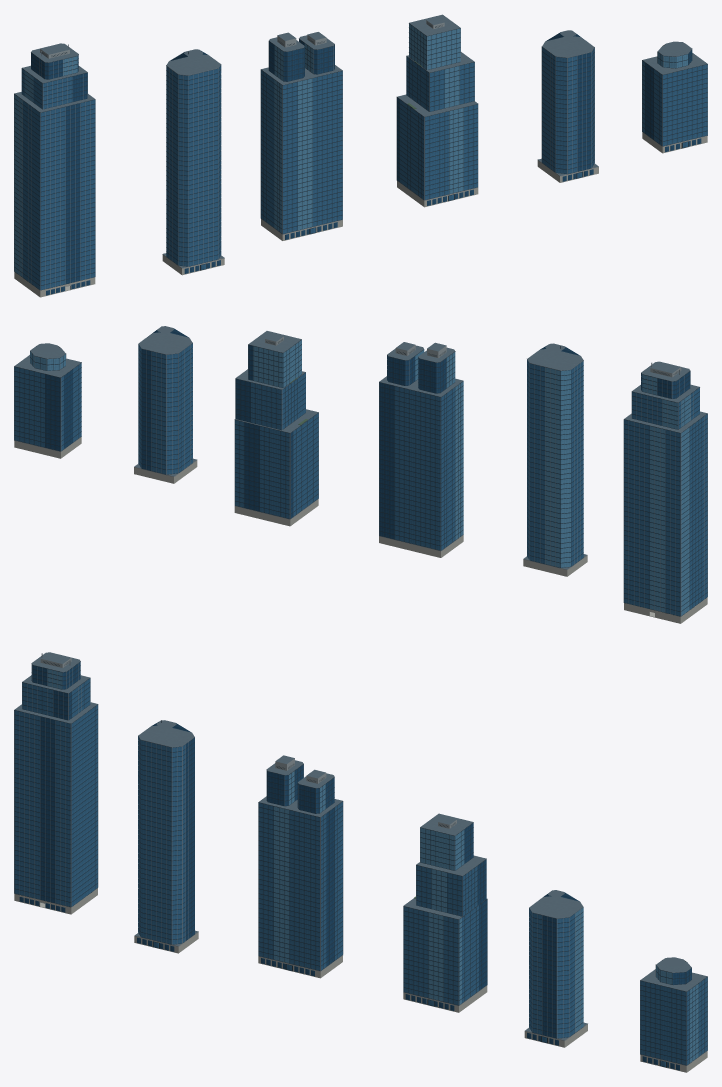
The picture shows the model from 3 angles, top to bottom: view 1: azimuth 30°, elevation 25°; view 2: azimuth 150°, elevation 25°; view 3: azimuth 330°, elevation 25°; orthographic projection. The views are drawn at different scales.
Parts seen in each view (by area): view 1: VIS_01_Stepped_Crown_01_Stepped_Crown_Glass_Blue, VIS_02_Faceted_Blade_02_Faceted_Blade_Glass_Blue, VIS_03_Twin_Pinnacles_03_Twin_Pinnacles_Glass_Blue, VIS_04_Terraced_Setbacks_04_Terraced_Setbacks_Glass_Blue, VIS_03_Twin_Pinnacles_03_Twin_Pinnacles_Frame_Dark, VIS_05_Chamfered_Apex_05_Chamfered_Apex_Glass_Blue, VIS_06_Civic_Lantern_06_Civic_Lantern_Glass_Blue, VIS_03_Twin_Pinnacles_03_Twin_Pinnacles_Glass_Sky, VIS_01_Stepped_Crown_01_Stepped_Crown_Glass_Deep, VIS_04_Terraced_Setbacks_04_Terraced_Setbacks_Frame_Dark, VIS_04_Terraced_Setbacks_04_Terraced_Setbacks_Glass_Sky, VIS_01_Stepped_Crown_01_Stepped_Crown_Frame_Dark (+25 smaller); view 2: VIS_01_Stepped_Crown_01_Stepped_Crown_Glass_Blue, VIS_03_Twin_Pinnacles_03_Twin_Pinnacles_Glass_Blue, VIS_04_Terraced_Setbacks_04_Terraced_Setbacks_Glass_Blue, VIS_02_Faceted_Blade_02_Faceted_Blade_Glass_Blue, VIS_05_Chamfered_Apex_05_Chamfered_Apex_Glass_Blue, VIS_01_Stepped_Crown_01_Stepped_Crown_Glass_Sky, VIS_03_Twin_Pinnacles_03_Twin_Pinnacles_Frame_Dark, VIS_02_Faceted_Blade_02_Faceted_Blade_Glass_Sky, VIS_04_Terraced_Setbacks_04_Terraced_Setbacks_Frame_Dark, VIS_03_Twin_Pinnacles_03_Twin_Pinnacles_Glass_Deep, VIS_01_Stepped_Crown_01_Stepped_Crown_Spandrel_Steel, VIS_01_Stepped_Crown_01_Stepped_Crown_Frame_Dark (+31 smaller); view 3: VIS_01_Stepped_Crown_01_Stepped_Crown_Glass_Blue, VIS_02_Faceted_Blade_02_Faceted_Blade_Glass_Blue, VIS_03_Twin_Pinnacles_03_Twin_Pinnacles_Glass_Blue, VIS_04_Terraced_Setbacks_04_Terraced_Setbacks_Glass_Blue, VIS_03_Twin_Pinnacles_03_Twin_Pinnacles_Frame_Dark, VIS_06_Civic_Lantern_06_Civic_Lantern_Glass_Blue, VIS_01_Stepped_Crown_01_Stepped_Crown_Glass_Deep, VIS_04_Terraced_Setbacks_04_Terraced_Setbacks_Frame_Dark, VIS_04_Terraced_Setbacks_04_Terraced_Setbacks_Glass_Sky, VIS_05_Chamfered_Apex_05_Chamfered_Apex_Glass_Blue, VIS_01_Stepped_Crown_01_Stepped_Crown_Frame_Dark, VIS_03_Twin_Pinnacles_03_Twin_Pinnacles_Glass_Deep (+24 smaller).
Part boxes in pixels (x1,y1,x2,y2): VIS_01_Stepped_Crown_01_Stepped_Crown_Glass_Blue: (21,69,95,289); VIS_02_Faceted_Blade_02_Faceted_Blade_Glass_Blue: (166,65,221,269); VIS_03_Twin_Pinnacles_03_Twin_Pinnacles_Glass_Blue: (261,70,342,233); VIS_04_Terraced_Setbacks_04_Terraced_Setbacks_Glass_Blue: (399,56,477,200); VIS_03_Twin_Pinnacles_03_Twin_Pinnacles_Frame_Dark: (261,38,342,234); VIS_05_Chamfered_Apex_05_Chamfered_Apex_Glass_Blue: (542,47,594,178); VIS_06_Civic_Lantern_06_Civic_Lantern_Glass_Blue: (642,61,707,147); VIS_03_Twin_Pinnacles_03_Twin_Pinnacles_Glass_Sky: (274,43,313,233); VIS_01_Stepped_Crown_01_Stepped_Crown_Glass_Deep: (31,53,90,295); VIS_04_Terraced_Setbacks_04_Terraced_Setbacks_Frame_Dark: (397,22,477,201); VIS_04_Terraced_Setbacks_04_Terraced_Setbacks_Glass_Sky: (409,24,463,193); VIS_01_Stepped_Crown_01_Stepped_Crown_Frame_Dark: (14,52,95,290); VIS_01_Stepped_Crown_01_Stepped_Crown_Glass_Blue: (624,387,707,615); VIS_03_Twin_Pinnacles_03_Twin_Pinnacles_Glass_Blue: (394,386,454,550); VIS_04_Terraced_Setbacks_04_Terraced_Setbacks_Glass_Blue: (235,373,318,518); VIS_02_Faceted_Blade_02_Faceted_Blade_Glass_Blue: (527,360,583,566); VIS_05_Chamfered_Apex_05_Chamfered_Apex_Glass_Blue: (138,343,192,474); VIS_01_Stepped_Crown_01_Stepped_Crown_Glass_Sky: (642,374,690,615); VIS_03_Twin_Pinnacles_03_Twin_Pinnacles_Frame_Dark: (379,349,463,550); VIS_02_Faceted_Blade_02_Faceted_Blade_Glass_Sky: (545,367,570,567); VIS_04_Terraced_Setbacks_04_Terraced_Setbacks_Frame_Dark: (234,339,318,518); VIS_03_Twin_Pinnacles_03_Twin_Pinnacles_Glass_Deep: (379,355,446,538); VIS_01_Stepped_Crown_01_Stepped_Crown_Spandrel_Steel: (624,373,707,616); VIS_01_Stepped_Crown_01_Stepped_Crown_Frame_Dark: (624,370,707,616); VIS_01_Stepped_Crown_01_Stepped_Crown_Glass_Blue: (14,678,97,906); VIS_02_Faceted_Blade_02_Faceted_Blade_Glass_Blue: (138,736,185,947); VIS_03_Twin_Pinnacles_03_Twin_Pinnacles_Glass_Blue: (258,802,342,970); VIS_04_Terraced_Setbacks_04_Terraced_Setbacks_Glass_Blue: (403,865,478,1005); VIS_03_Twin_Pinnacles_03_Twin_Pinnacles_Frame_Dark: (258,764,342,971); VIS_06_Civic_Lantern_06_Civic_Lantern_Glass_Blue: (640,977,707,1066); VIS_01_Stepped_Crown_01_Stepped_Crown_Glass_Deep: (19,662,80,912); VIS_04_Terraced_Setbacks_04_Terraced_Setbacks_Frame_Dark: (403,822,486,1006); VIS_04_Terraced_Setbacks_04_Terraced_Setbacks_Glass_Sky: (420,828,464,1004); VIS_05_Chamfered_Apex_05_Chamfered_Apex_Glass_Blue: (529,908,574,1042); VIS_01_Stepped_Crown_01_Stepped_Crown_Frame_Dark: (14,661,97,907); VIS_03_Twin_Pinnacles_03_Twin_Pinnacles_Glass_Deep: (261,764,334,976).
Bounding box in the file's own units: 526 × 178 × 54.07.
10 materials, 10 textured.
